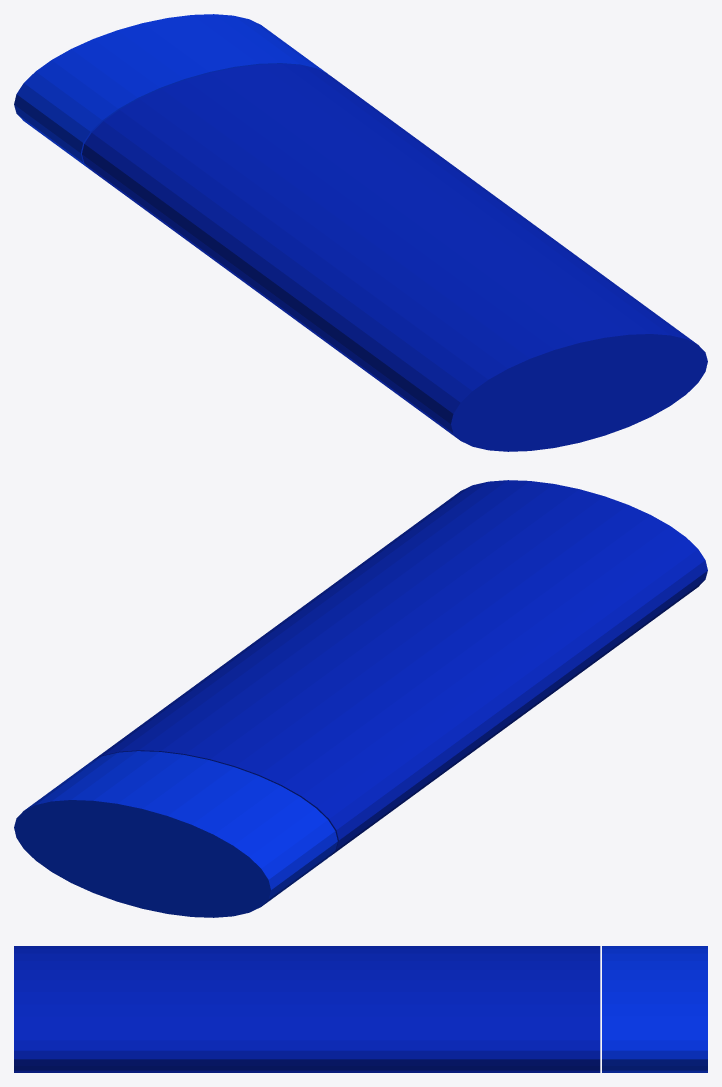
Rendered from sharp_tong.fbx.
3 views of the same model, one above another, from view 1: azimuth 30°, elevation 25°; view 2: azimuth 150°, elevation 25°; view 3: azimuth 270°, elevation 25° (orthographic). The views are drawn at different scales.
Visible parts, largest first — view 1: 실린더, 실린더.001; view 2: 실린더, 실린더.001; view 3: 실린더, 실린더.001.
Part boxes in pixels (<box>): 실린더: <box>82,63,707,451</box>; 실린더.001: <box>14,14,327,169</box>; 실린더: <box>92,480,707,856</box>; 실린더.001: <box>14,751,337,917</box>; 실린더: <box>14,946,600,1072</box>; 실린더.001: <box>602,946,707,1072</box>.
Bounding box in the file's own units: 374 × 139 × 1102.
